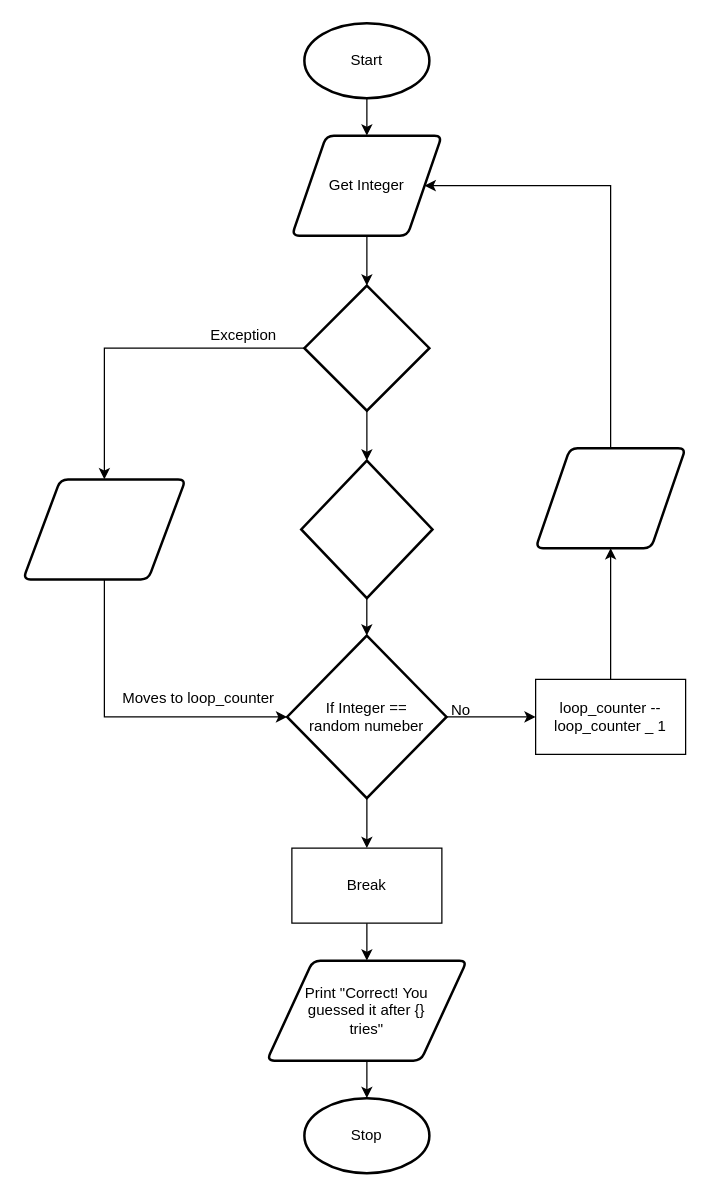
Some shapes in this 708 by 1195 pixel diagram are drawn without their labels. The shapes that lost their labels are listed below. From the top down, each one's box as (x1, y1, x2, y2) in pixels, then its label:
(302, 284, 430, 411): Try
(534, 446, 686, 549): Print "You guessed wrong. Try again?"
(21, 478, 186, 580): Print "This was not a valid integer."
(299, 459, 433, 599): For counter in range(10)
